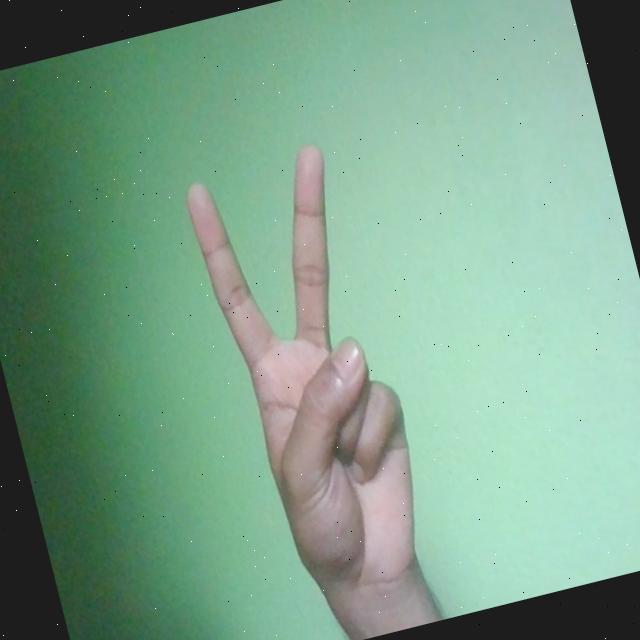Fist: (177, 137, 446, 620)
